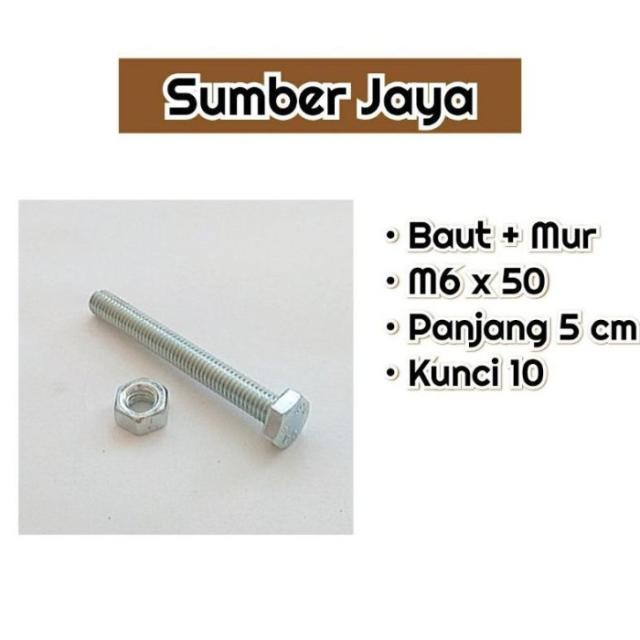Logam: (53, 214, 346, 474)
